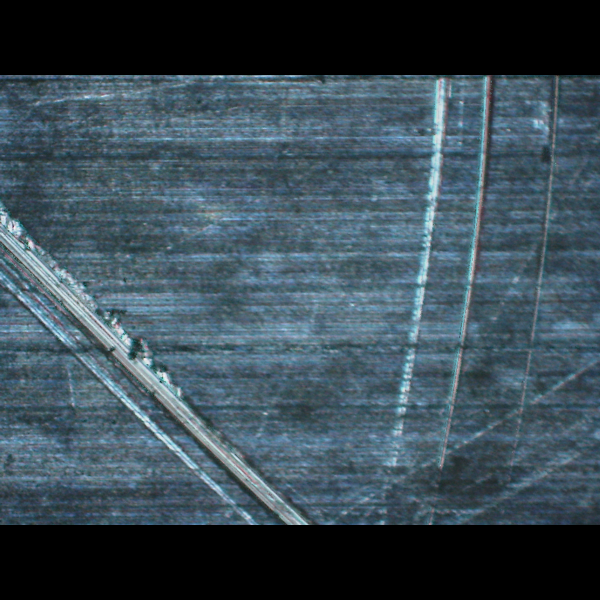d: (0, 200, 332, 525), (362, 75, 572, 504)
